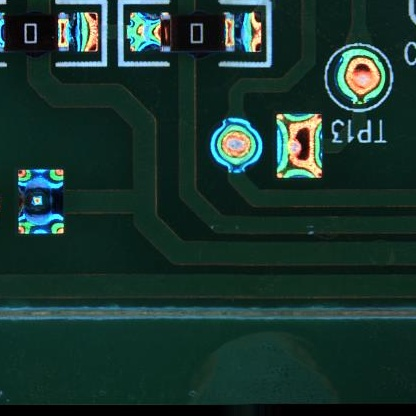spot: (17, 166, 65, 236), (333, 47, 386, 108), (277, 114, 323, 180), (209, 117, 263, 172)
